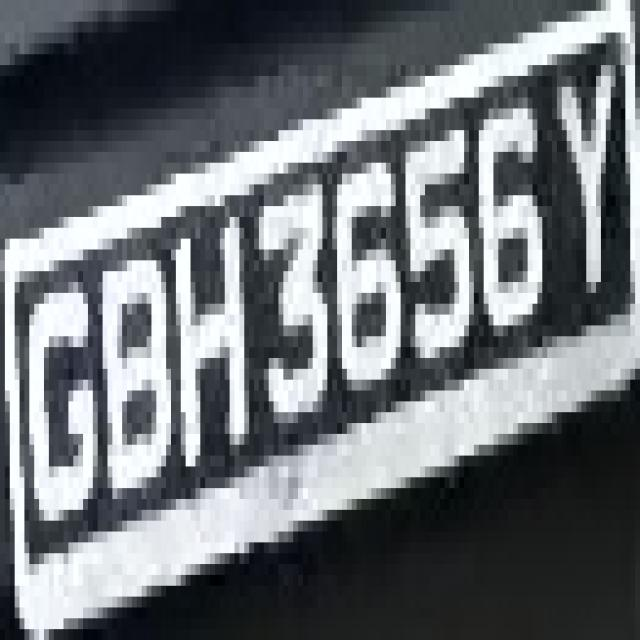3: (240, 162, 332, 456)
5: (386, 108, 479, 402)
6: (318, 119, 400, 423), (469, 87, 552, 336)
B: (88, 250, 176, 520)
G: (24, 261, 98, 554)
H: (156, 185, 254, 478)
Y: (538, 22, 630, 314)
